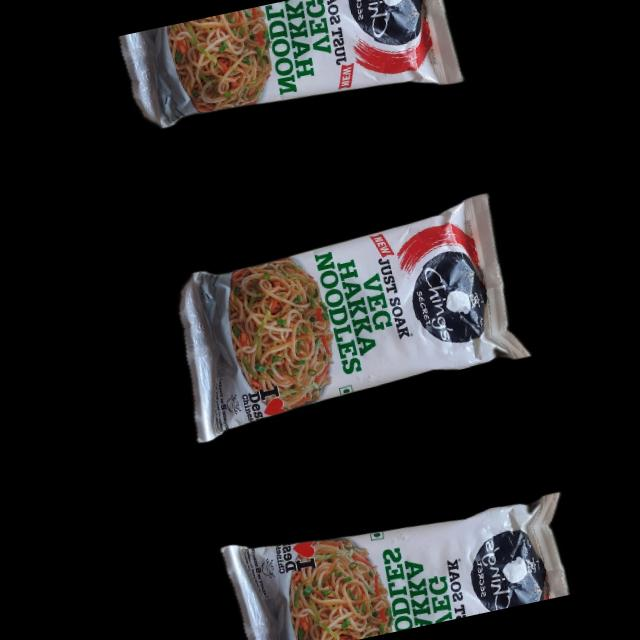Chings Secret Veg Hakka Noodles 140 g Pouch: (153, 182, 533, 452), (213, 467, 578, 640), (107, 0, 471, 158)
